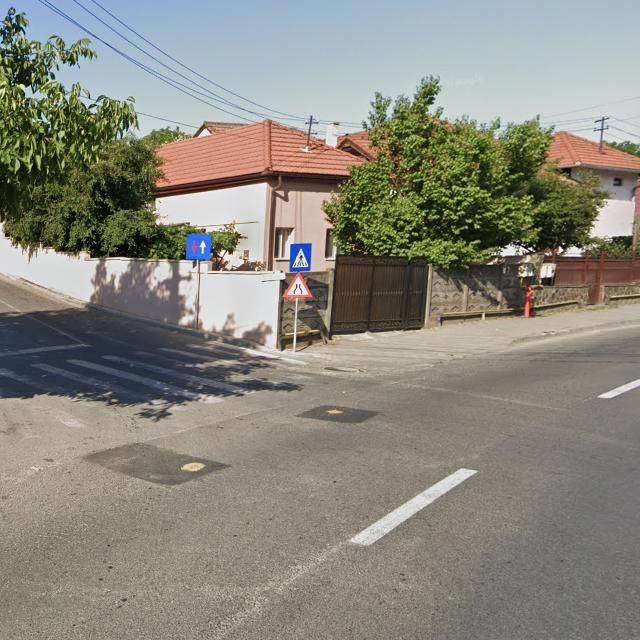info_crosswalk: (290, 243, 312, 273)
